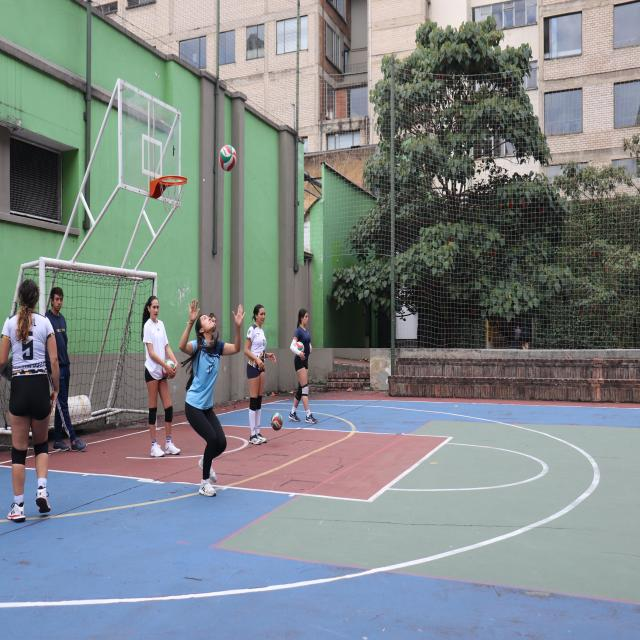volleyball: (219, 144, 237, 172), (162, 359, 175, 379), (271, 412, 283, 431), (294, 342, 305, 352)
